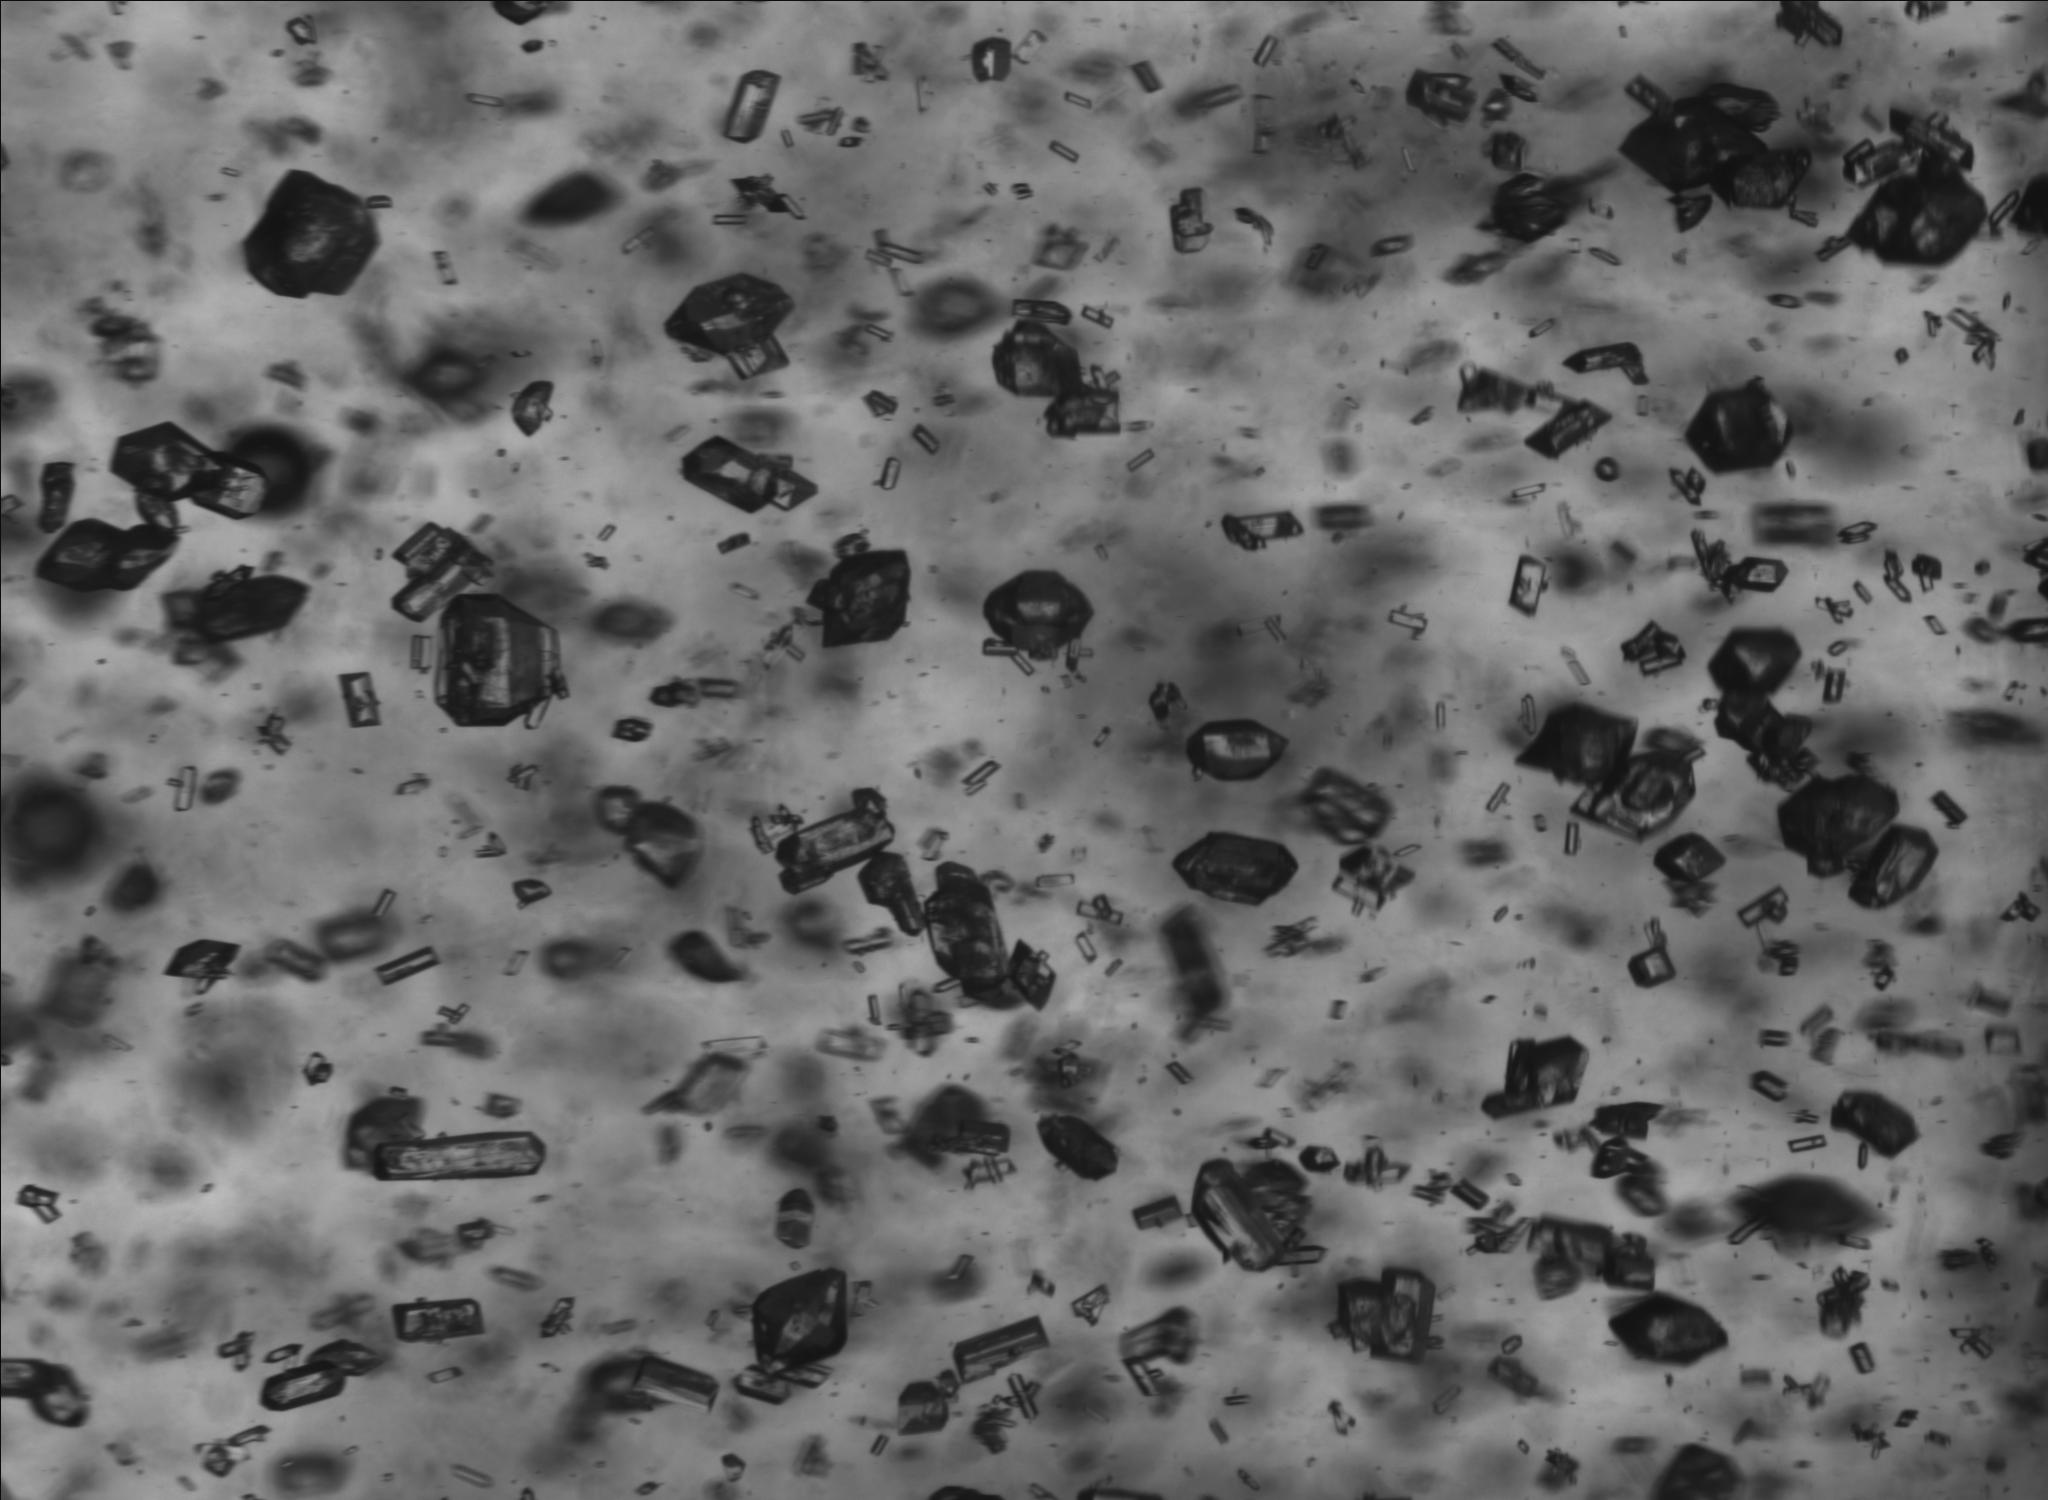crystal: (1620, 76, 1811, 229), (434, 592, 568, 725), (242, 170, 378, 297), (1846, 156, 1986, 266), (1188, 1158, 1323, 1271), (992, 318, 1119, 437), (1571, 727, 1703, 841), (752, 787, 894, 894), (111, 422, 266, 512), (665, 274, 793, 379), (922, 862, 1011, 1007), (1778, 773, 1897, 876), (1525, 1217, 1655, 1300), (172, 565, 307, 644), (595, 786, 696, 889), (35, 519, 178, 592), (681, 436, 816, 512), (1329, 1268, 1437, 1363), (391, 522, 491, 620), (808, 549, 910, 646), (1714, 692, 1816, 789), (1684, 379, 1789, 472), (1517, 703, 1635, 786), (983, 569, 1091, 657), (751, 1268, 846, 1366), (1172, 832, 1297, 905), (1480, 1036, 1587, 1118), (1608, 1292, 1727, 1365), (369, 1131, 545, 1180), (259, 1338, 380, 1409), (1480, 170, 1592, 243), (1848, 826, 1937, 908), (592, 1354, 717, 1411), (1297, 768, 1390, 845), (1692, 533, 1787, 601), (951, 1317, 1046, 1384), (1708, 627, 1800, 695), (0, 1357, 89, 1427), (1186, 719, 1285, 779), (1887, 107, 1973, 175), (1652, 834, 1725, 913), (857, 849, 922, 935), (1830, 1091, 1916, 1156), (1331, 845, 1412, 913), (1037, 1113, 1118, 1179), (1523, 399, 1609, 458), (720, 68, 781, 143), (391, 1298, 483, 1343), (162, 938, 239, 991), (1404, 70, 1476, 126), (196, 1424, 269, 1478), (1841, 138, 1924, 186), (1816, 1268, 1868, 1338), (1563, 342, 1647, 383), (1005, 940, 1054, 1010), (1620, 622, 1684, 676), (1943, 305, 1997, 369), (1627, 918, 1674, 988), (730, 173, 803, 218), (1776, 0, 1843, 48), (897, 1381, 956, 1435), (1221, 512, 1304, 550), (1169, 186, 1213, 253), (1468, 1206, 1526, 1253), (37, 461, 75, 533), (1344, 1145, 1407, 1188), (1590, 1136, 1654, 1179), (649, 678, 739, 706), (1592, 1101, 1660, 1137), (337, 671, 380, 727), (510, 380, 553, 436), (374, 946, 439, 983), (774, 1190, 814, 1249), (1509, 555, 1547, 616), (968, 35, 1016, 83), (1491, 37, 1544, 78), (1736, 886, 1786, 929), (871, 231, 933, 264), (1264, 918, 1315, 958), (1121, 1357, 1172, 1397), (488, 0, 566, 25), (970, 1406, 1011, 1454), (999, 1373, 1040, 1419), (1131, 1195, 1185, 1230), (962, 1153, 1014, 1188), (14, 1183, 60, 1223), (1476, 132, 1522, 172), (1234, 205, 1274, 248), (760, 624, 803, 663), (1070, 1284, 1110, 1325), (254, 711, 293, 754), (1011, 297, 1072, 324), (165, 765, 200, 810), (1988, 185, 2023, 229), (1883, 549, 1911, 603), (1849, 1420, 1889, 1459), (537, 1296, 574, 1338), (840, 929, 894, 956), (216, 1331, 253, 1371), (1949, 1327, 1994, 1358), (1929, 791, 1967, 827), (1410, 1171, 1450, 1206), (1148, 681, 1181, 722), (1999, 891, 2042, 923), (1078, 894, 1123, 924), (1668, 468, 1705, 504), (960, 759, 999, 794), (1388, 604, 1428, 638), (455, 1218, 495, 1252), (1765, 938, 1800, 975), (797, 107, 841, 135), (512, 876, 552, 908), (1449, 1177, 1488, 1209), (1814, 232, 1857, 261), (1983, 1024, 2021, 1056), (1910, 554, 1941, 592), (1011, 29, 1045, 64), (1751, 1071, 1787, 1102), (1809, 1026, 1840, 1064), (1297, 1145, 1339, 1172), (611, 716, 654, 741), (1245, 1126, 1290, 1150), (1429, 1382, 1461, 1416), (1798, 1004, 1833, 1034), (1784, 197, 1819, 227), (1369, 234, 1412, 258), (450, 1463, 493, 1487), (429, 250, 458, 285), (1501, 73, 1536, 102), (1251, 32, 1280, 67), (1504, 482, 1546, 506), (285, 14, 316, 45), (1131, 60, 1162, 91), (919, 827, 948, 861), (873, 455, 902, 488), (1837, 520, 1876, 544), (862, 390, 897, 417), (1328, 1400, 1355, 1435), (1821, 666, 1846, 703), (1903, 0, 1948, 21), (1515, 694, 1536, 738), (1075, 926, 1099, 964), (911, 423, 940, 455), (1848, 1341, 1875, 1374), (507, 764, 541, 791), (1164, 1056, 1194, 1085), (474, 832, 507, 857), (393, 773, 429, 795), (1048, 138, 1080, 164), (1080, 304, 1113, 328), (262, 1343, 301, 1363), (1034, 872, 1075, 891), (1822, 597, 1852, 622), (1485, 781, 1511, 811), (720, 1452, 746, 1483), (1786, 1134, 1825, 1153), (464, 91, 507, 108), (1027, 1269, 1054, 1296), (1585, 245, 1620, 266), (1250, 121, 1270, 154), (1126, 447, 1153, 472), (426, 1365, 464, 1382), (1593, 457, 1619, 482), (1921, 310, 1943, 339), (1563, 821, 1581, 856), (1765, 293, 1803, 309), (1526, 317, 1555, 337), (1759, 1028, 1789, 1047), (1062, 91, 1092, 110), (1851, 579, 1873, 604), (1922, 614, 1948, 635), (1892, 1409, 1918, 1428), (1433, 700, 1449, 730), (1499, 1335, 1522, 1355), (868, 1433, 889, 1455), (1590, 202, 1614, 221), (867, 994, 881, 1024), (1825, 639, 1852, 655), (1223, 1390, 1250, 1406), (1328, 999, 1347, 1020), (1856, 1139, 1868, 1169), (634, 1481, 660, 1495), (838, 134, 863, 148), (1092, 727, 1111, 746), (1894, 347, 1908, 364)
